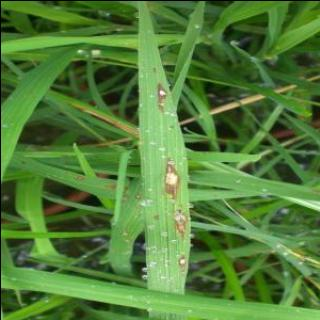Blast: (162, 158, 184, 198), (152, 66, 170, 113), (172, 210, 190, 237)
